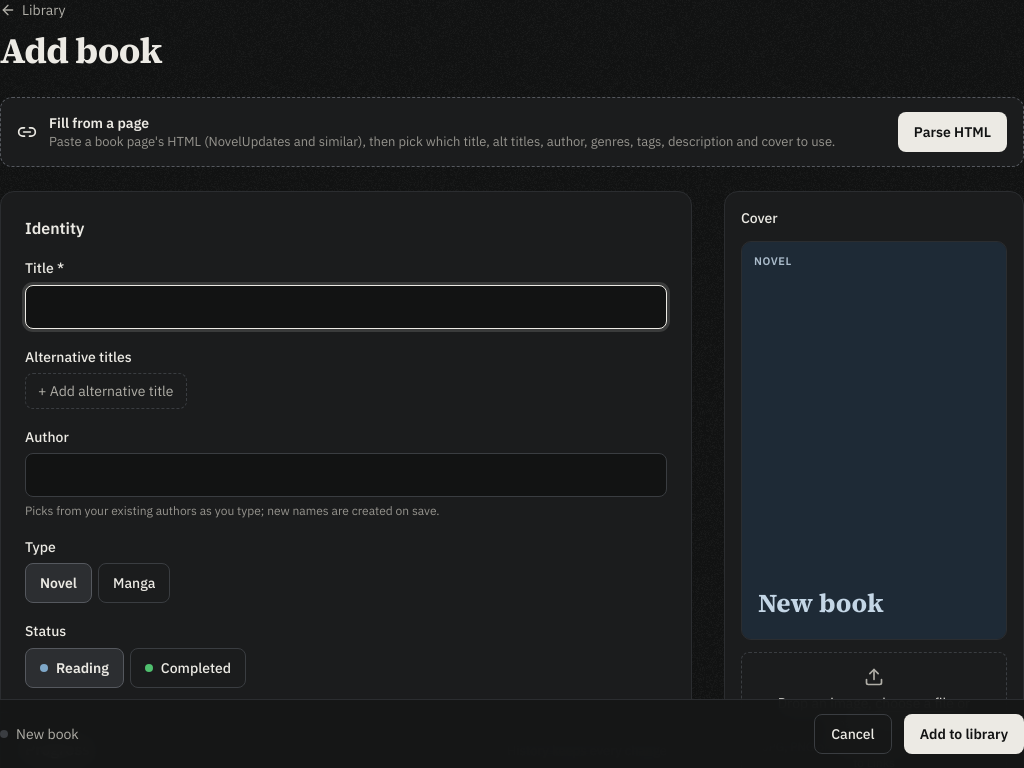
Test: BookFormPage › keeps an existing field when the user deselects it in the HTML preview
The image size is (1024, 768).
Expected: the heading "Add book" is shown, [0, 26, 162, 75]
Type "Manual title" into the field named "Primary title" at point(346, 307), box [25, 285, 667, 329]
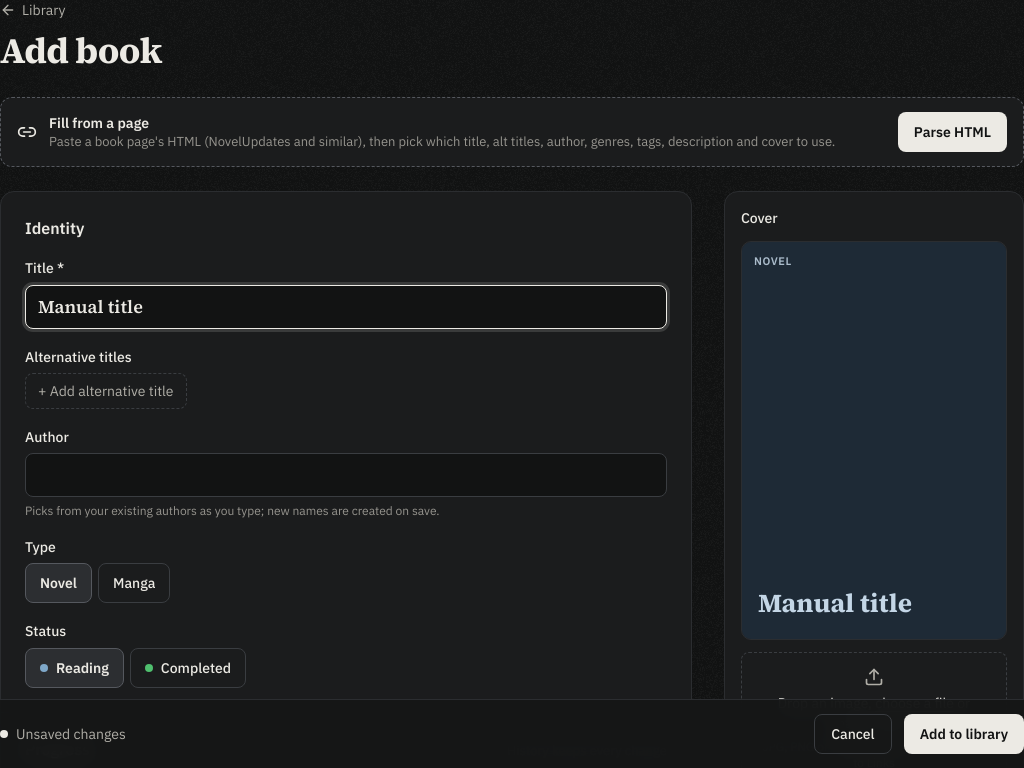
Click the button "Parse HTML" at point(952, 132), box [898, 112, 1007, 152]
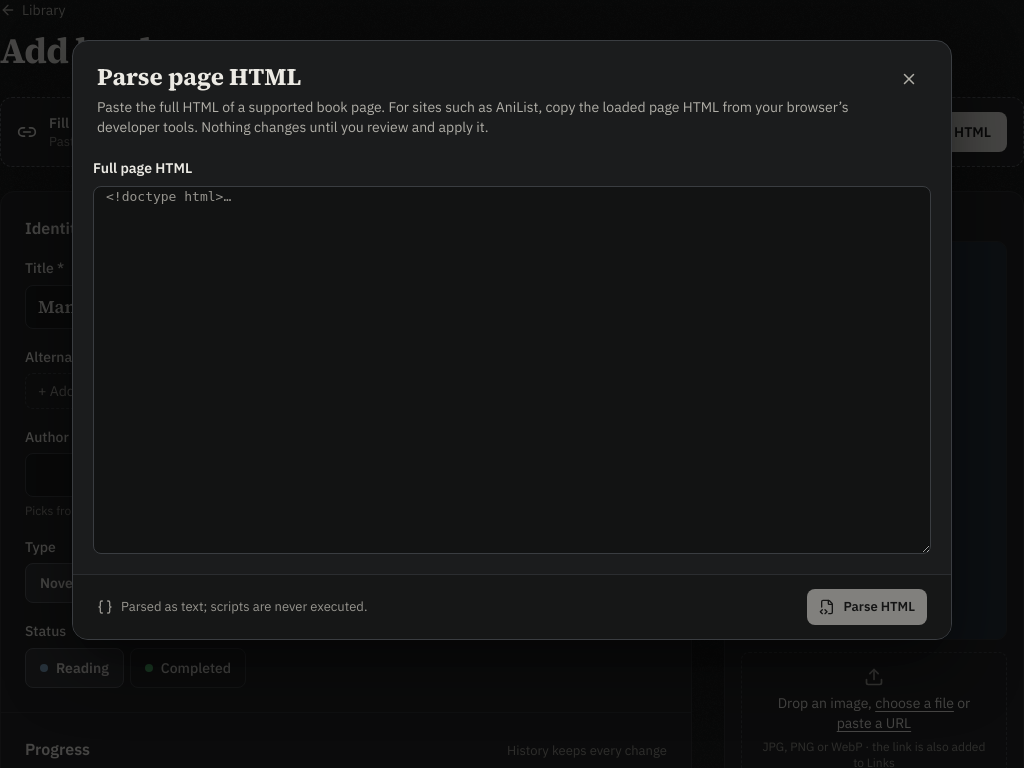
Type "<html>source</html>" into the text box labelled "Full page HTML" at point(512, 370), box [93, 186, 931, 554]
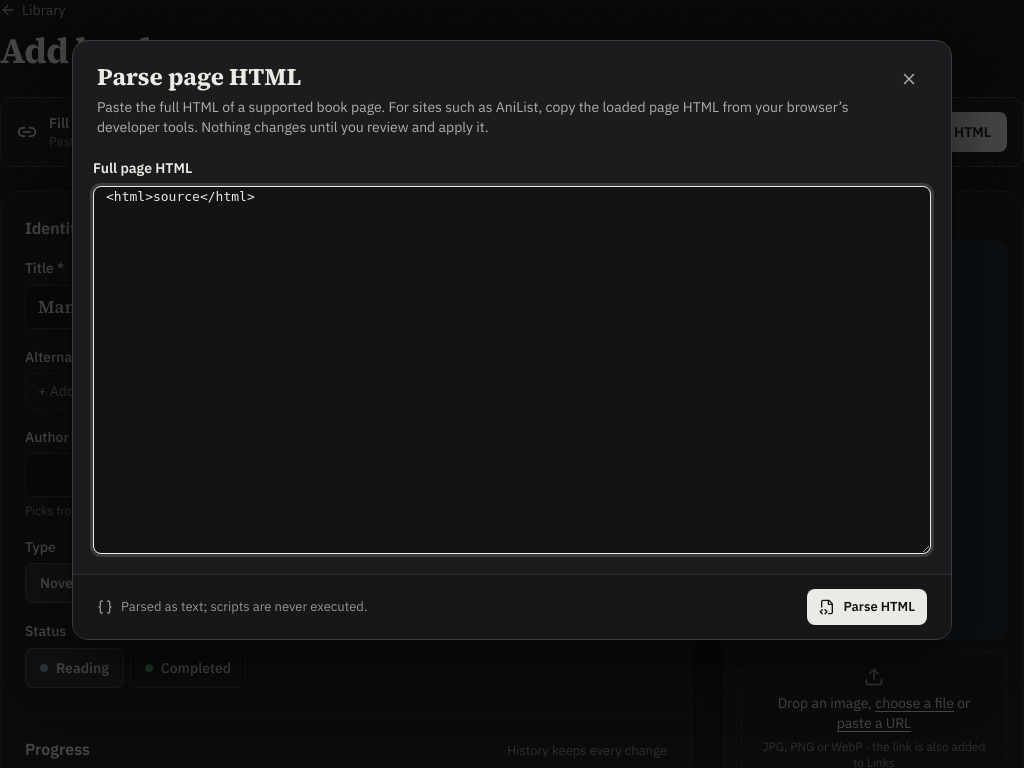
Click the button "Parse HTML" at point(867, 607), box [807, 589, 927, 625]
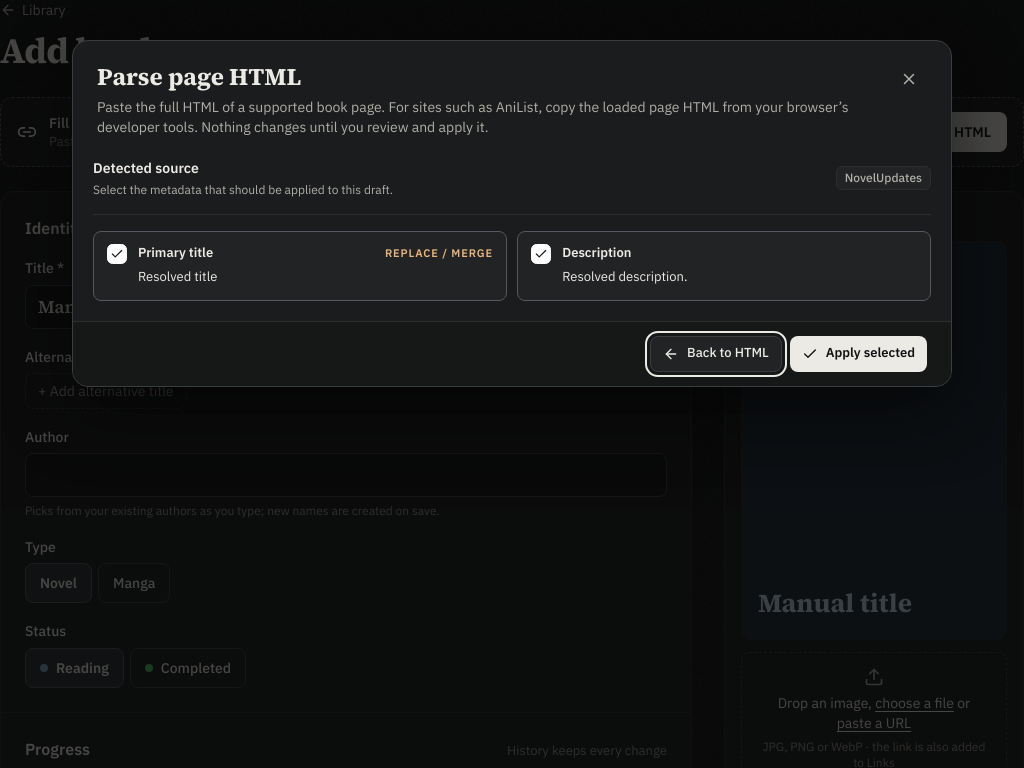
Expected: the text "Resolved title" is shown, [138, 268, 217, 285]
Click the checkbox labelled "Primary title replace / merge Resolved title" at point(176, 253), box [93, 231, 507, 301]
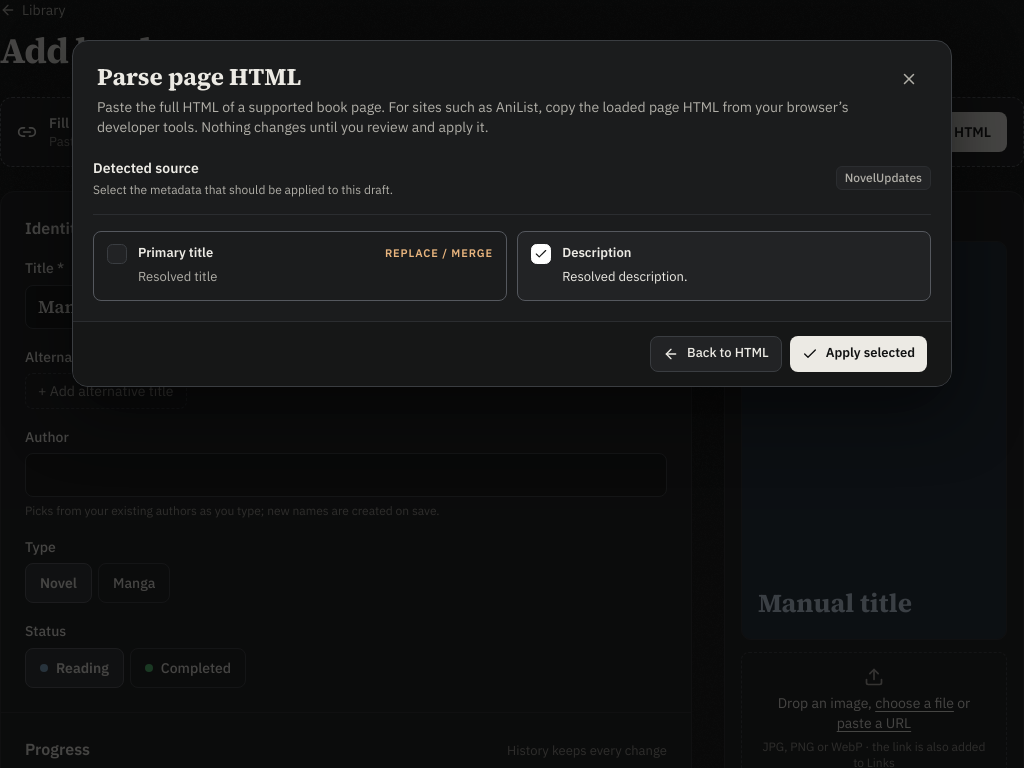
Click the button "Apply selected" at point(858, 354), box [790, 336, 927, 372]
(page scrolled)
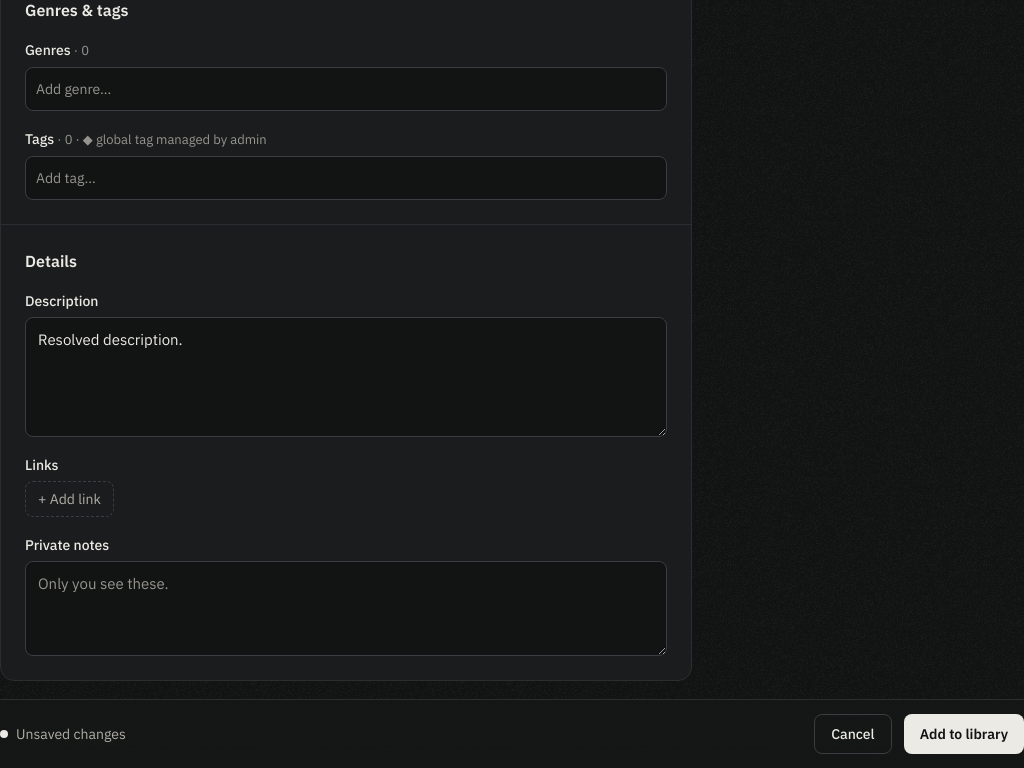
Expected: the text box named "Description" holds "Resolved description.", [25, 317, 667, 436]
